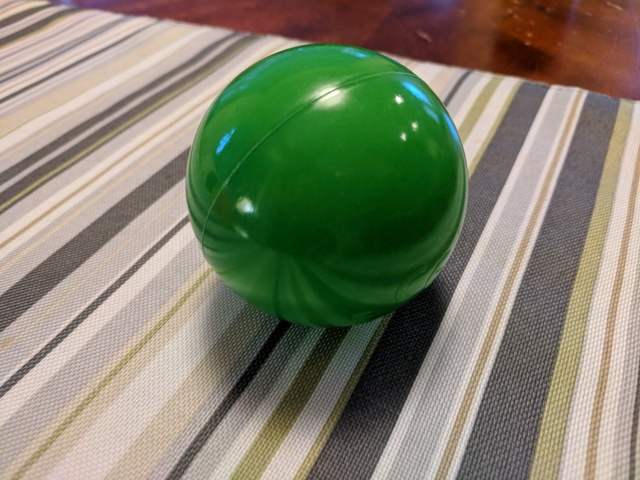Ball: (184, 45, 470, 328)
